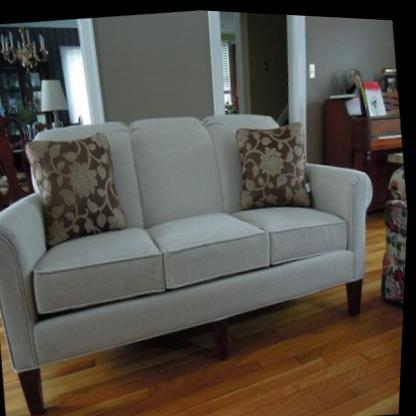Sofa: (0, 82, 400, 416)
